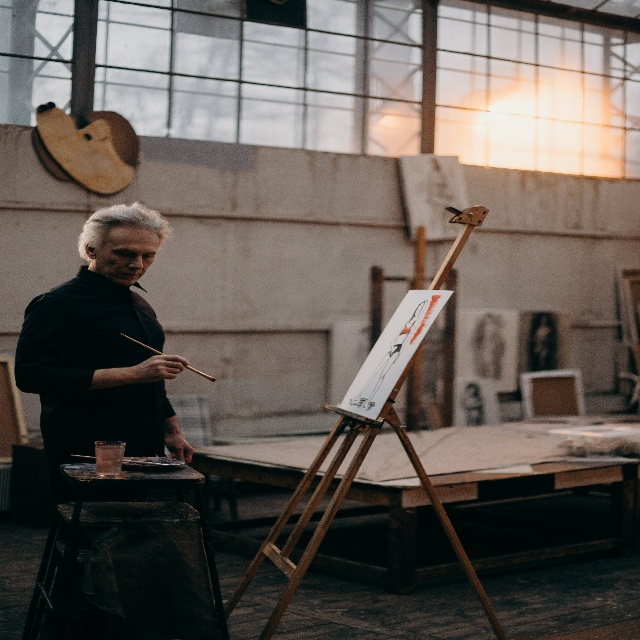Sin_guantes: (138, 353, 188, 383), (165, 430, 193, 464)
